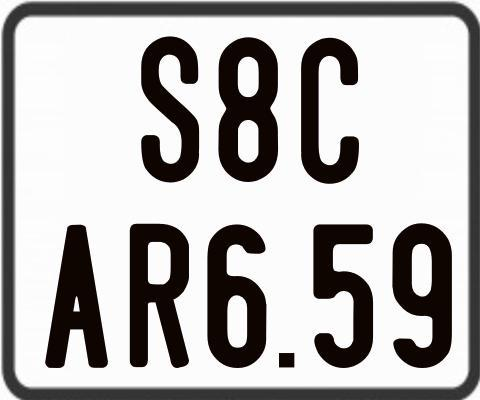5: (311, 221, 376, 366)
6: (207, 222, 267, 370)
8: (215, 35, 277, 181)
9: (390, 223, 456, 368)
A: (45, 225, 114, 374)
C: (300, 37, 360, 188)
R: (127, 222, 190, 366)
S: (141, 36, 203, 188)
